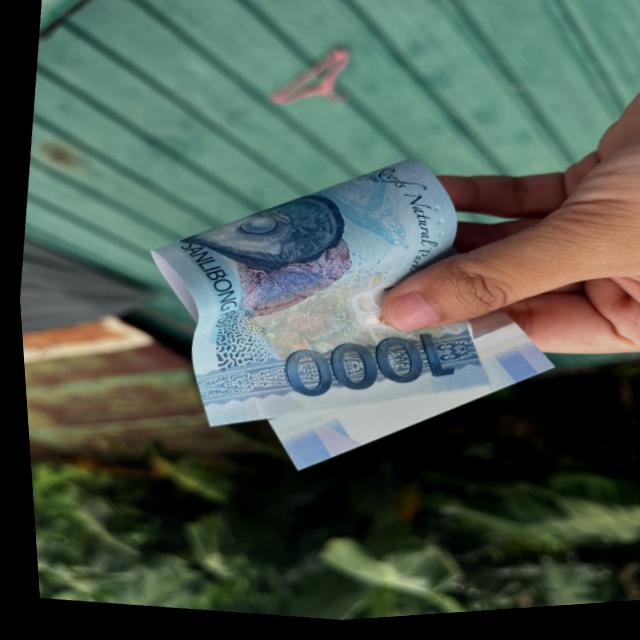value: (248, 312, 472, 435)
